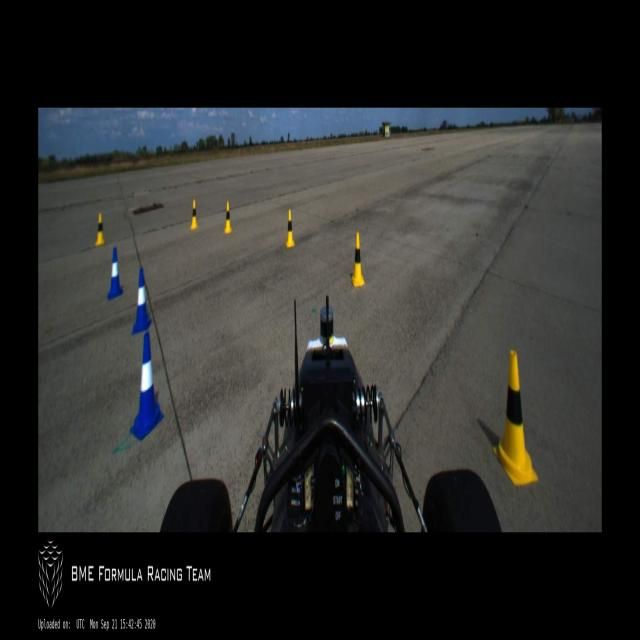blue_cone: (130, 332, 164, 441), (131, 267, 152, 335), (107, 247, 123, 301)
yellow_cone: (494, 350, 538, 488), (351, 230, 365, 288), (285, 209, 295, 249), (95, 213, 105, 246), (224, 200, 232, 234), (190, 199, 198, 230)
